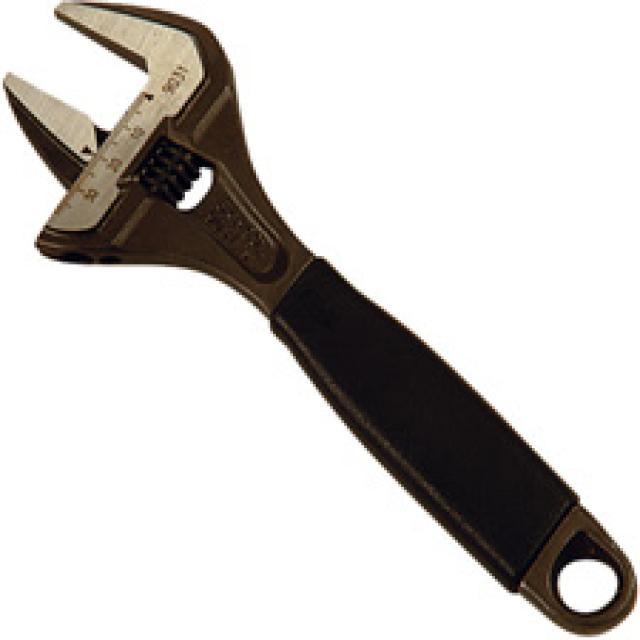wrench: (0, 0, 460, 364)
